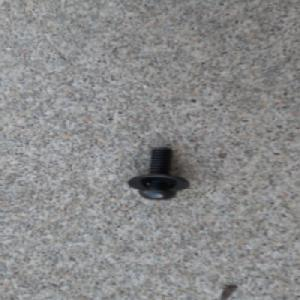BoltWasher: (126, 145, 190, 200)
